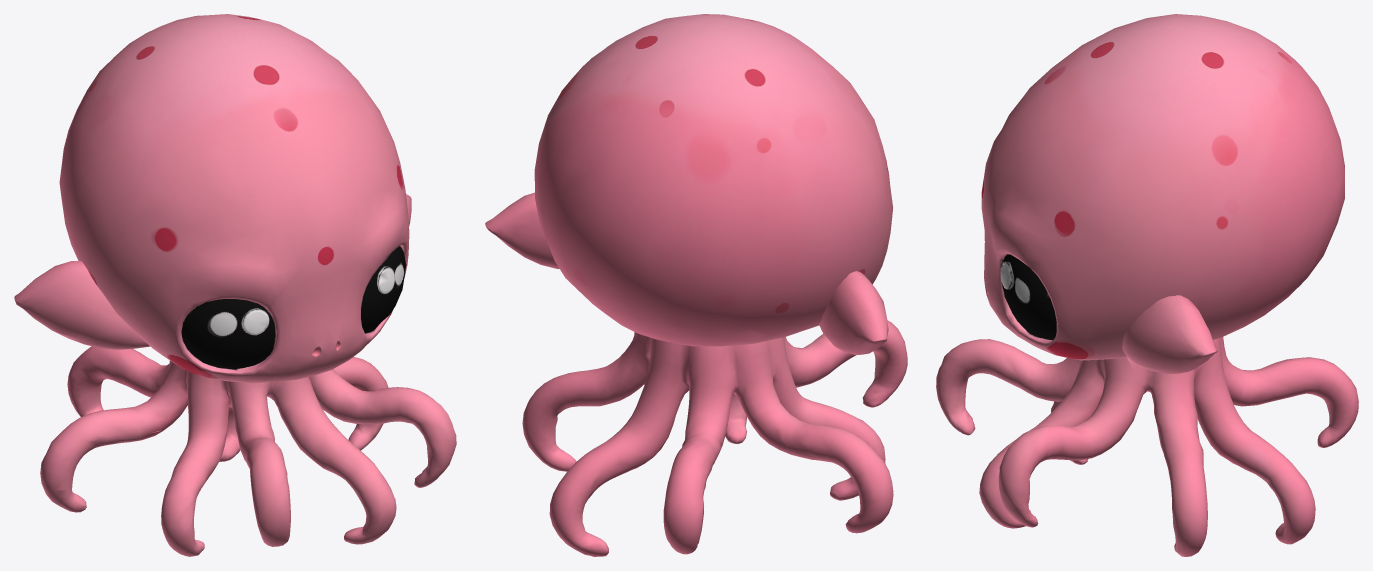
The model's file is squid-baby.glb.
3 views of the same model, side by side, from view 1: azimuth 30°, elevation 25°; view 2: azimuth 150°, elevation 25°; view 3: azimuth 270°, elevation 25° (orthographic). The views are drawn at different scales.
Bounding box in the file's own units: 0.8057 × 0.9517 × 0.7495.
1 material, 1 textured.
